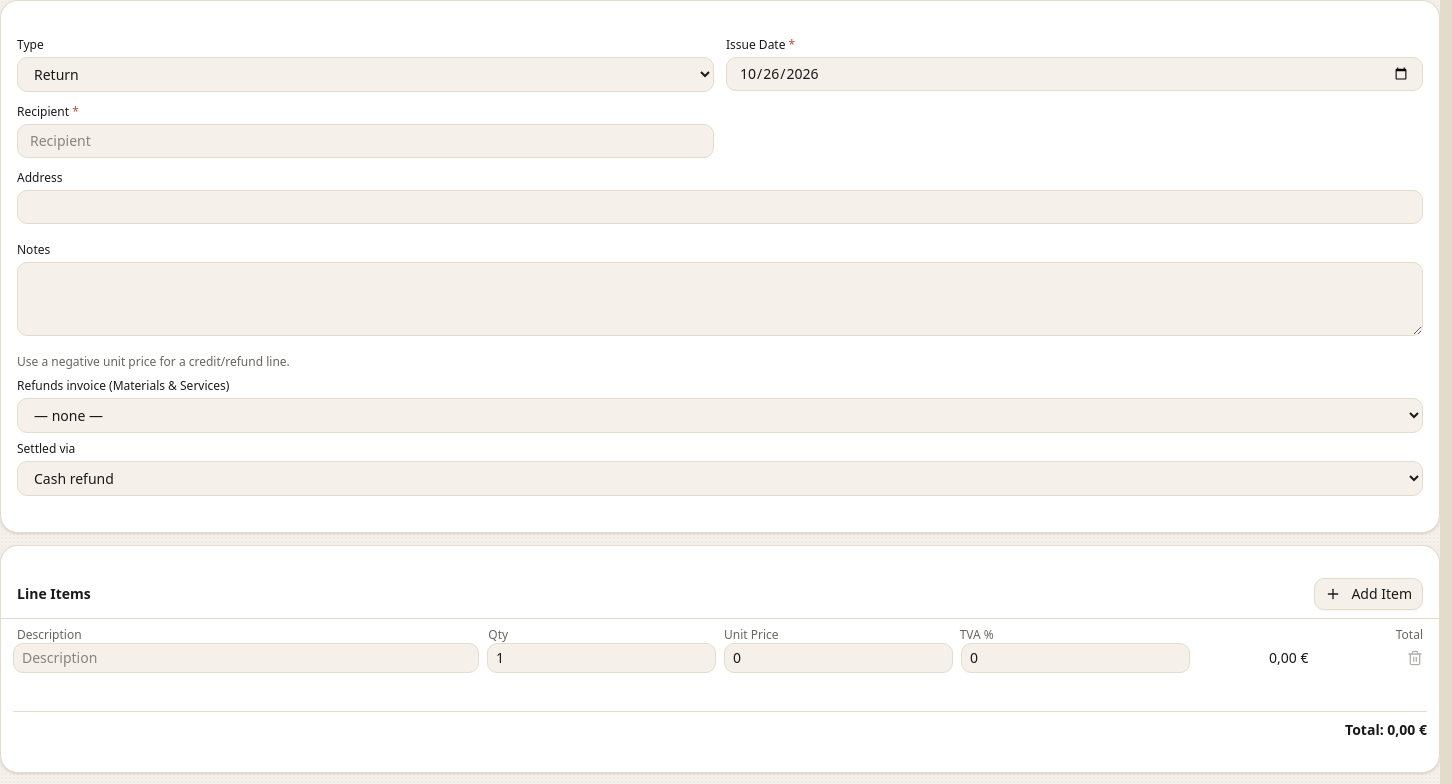
Test: InvoiceForm — applied-to method-alignment hint › shows the target's payment method label when present
Select "Avoir (supplier credit)" in the dropdown with test id "settled-via-select" at (720, 478), box [17,461,1423,496]
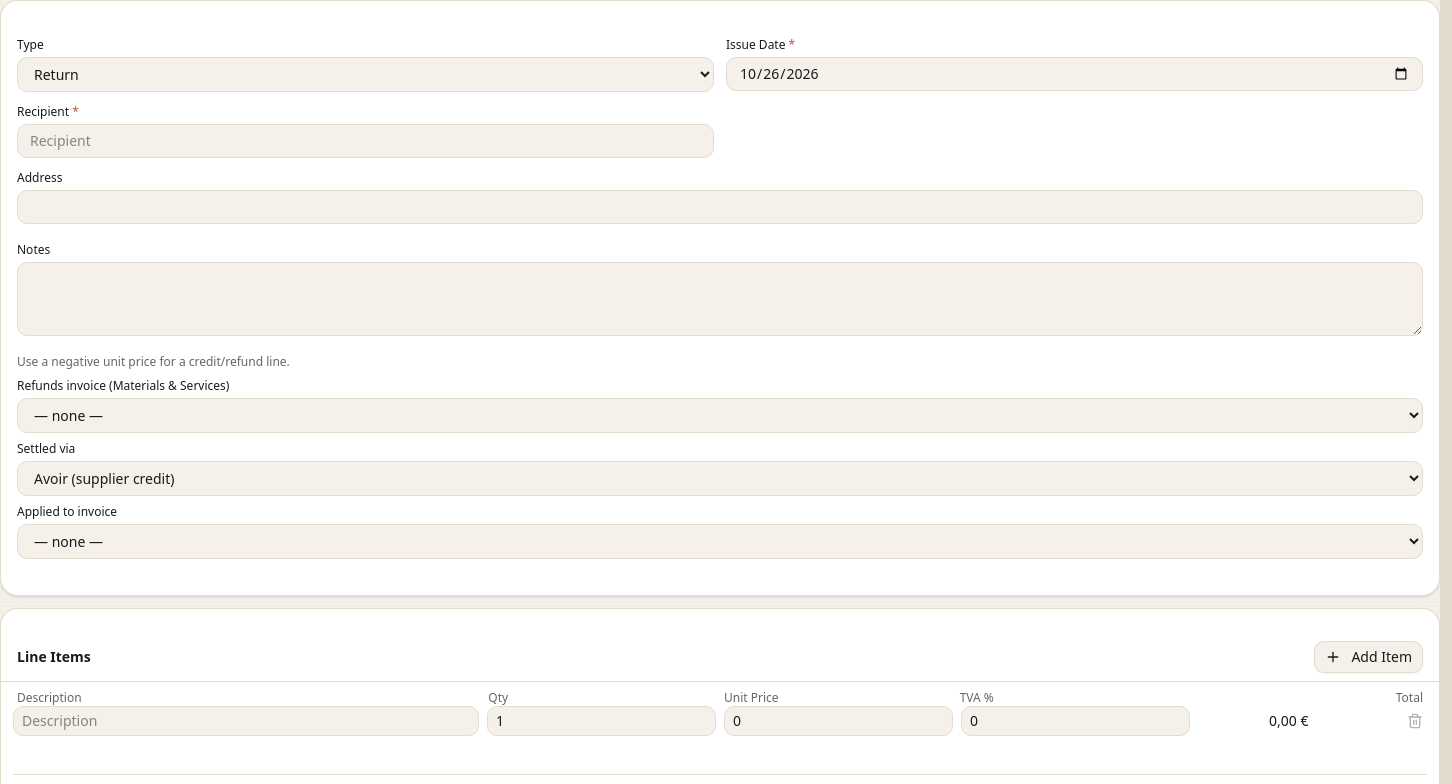
Select "INV-001 — 300,00 €" in the dropdown with test id "applied-to-invoice-select" at (720, 542), box [17,524,1423,559]
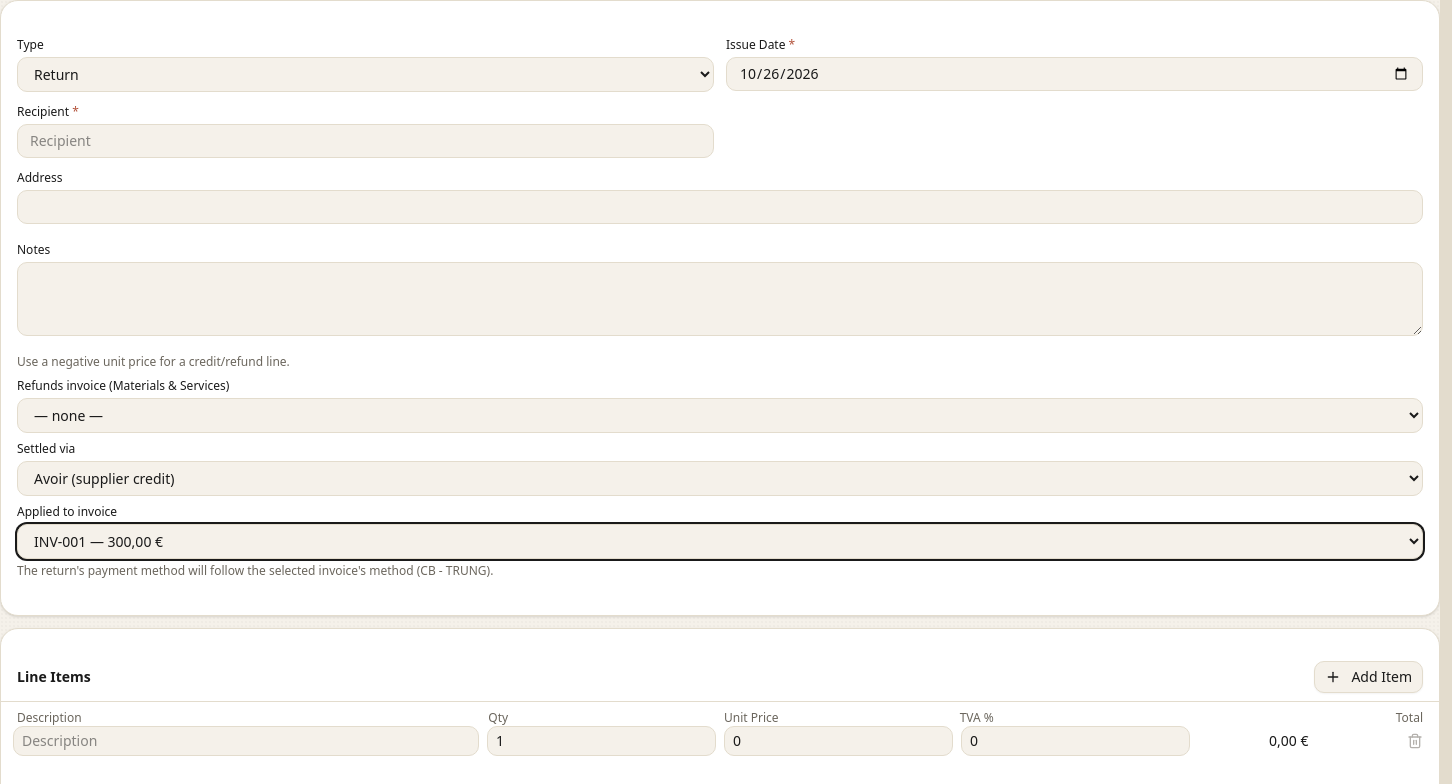
expect the text with test id "applied-to-method-hint" shows "CB - TRUNG": met, box [17,562,493,579]
